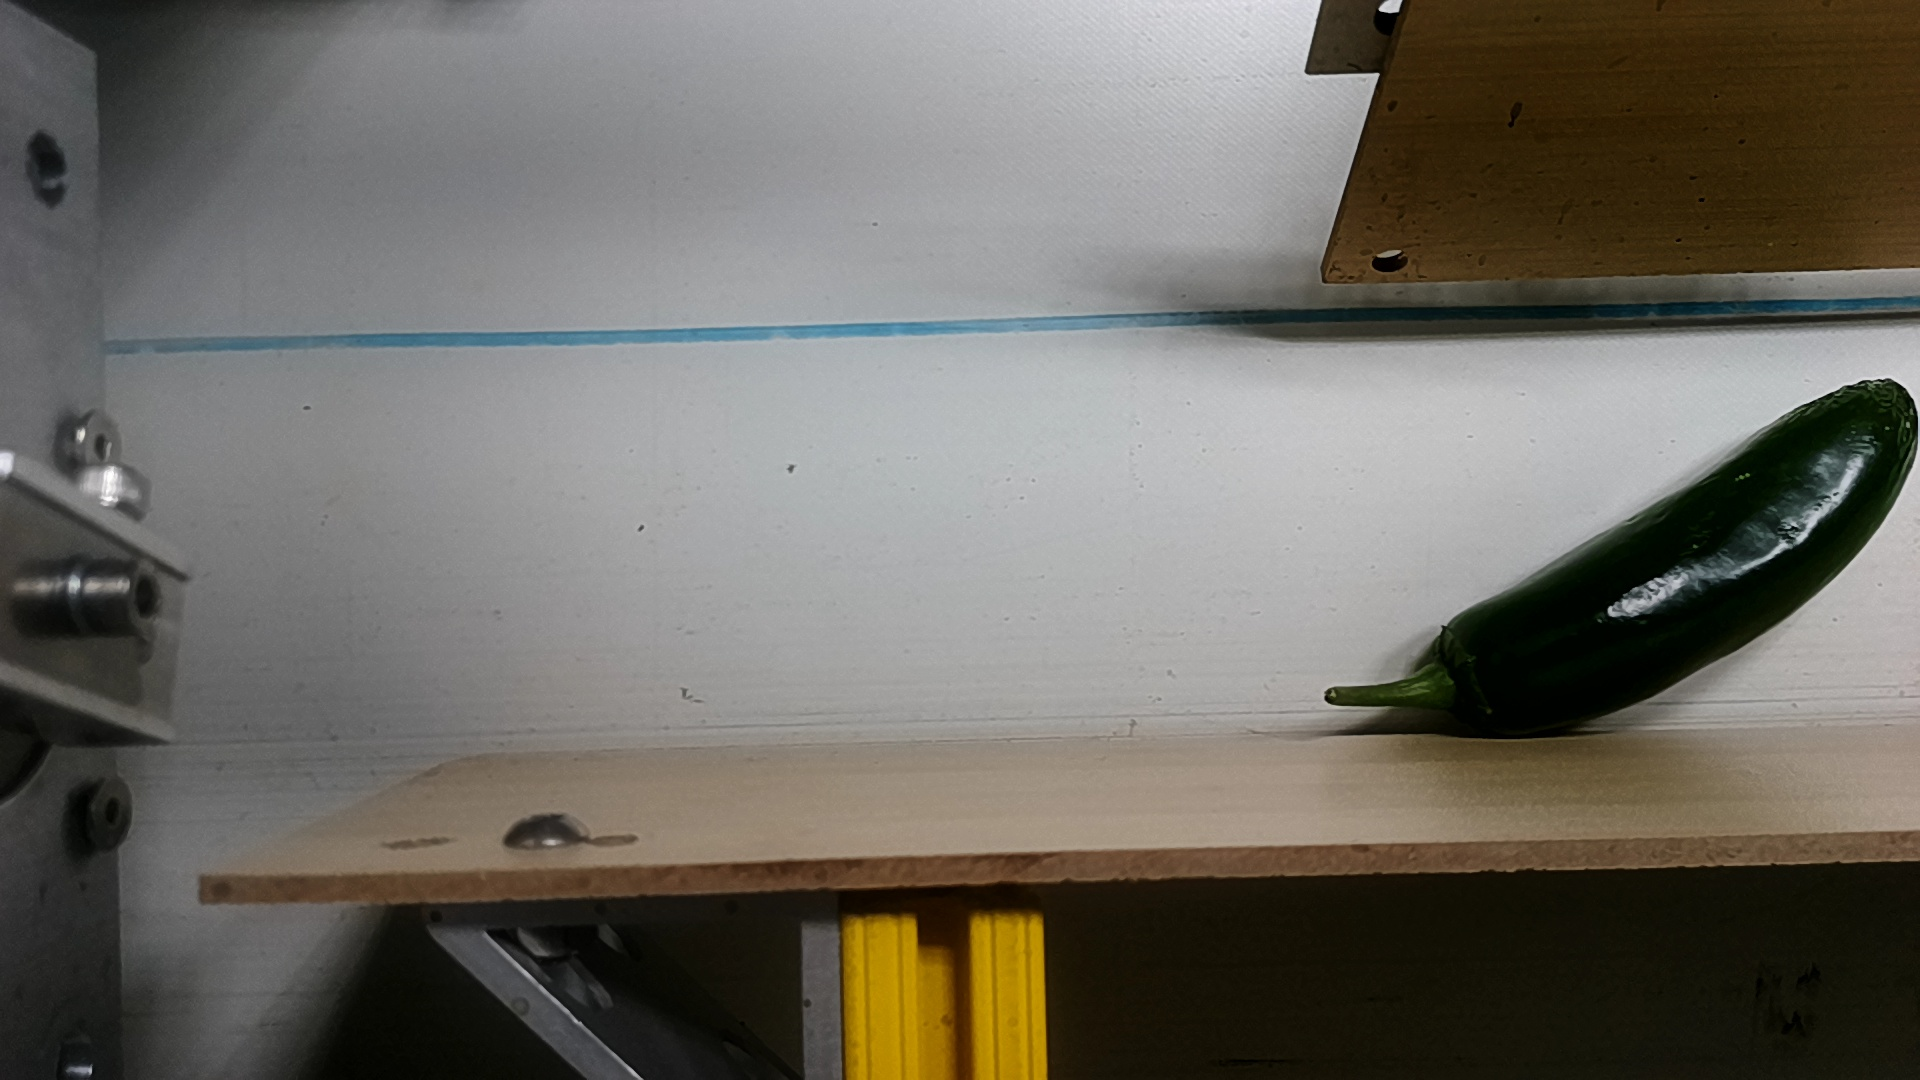Cut Point: (1406, 597, 1513, 741)
